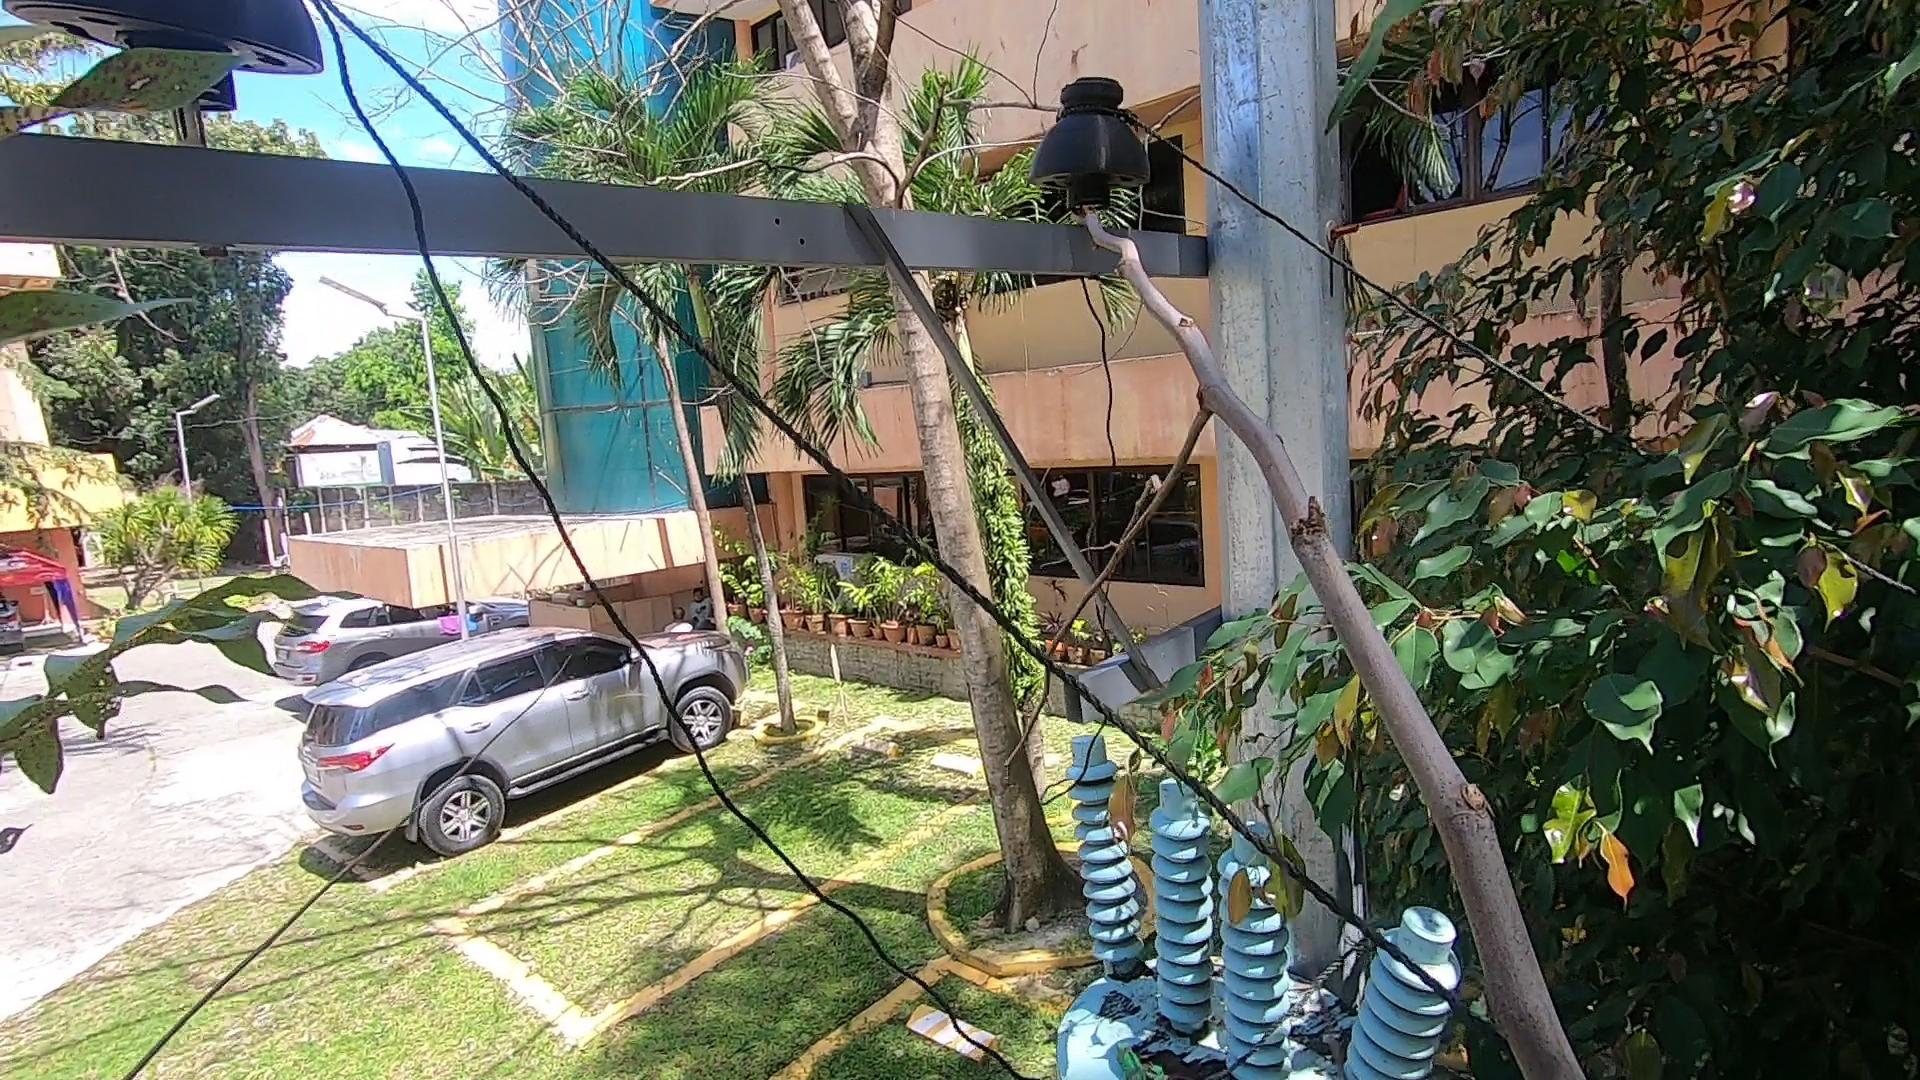branch with leaves: (1068, 601, 1378, 942)
leaf: (3, 45, 281, 167), (1133, 1040, 1237, 1080), (1294, 1013, 1358, 1076), (1112, 949, 1162, 990)
tree branch: (1044, 165, 1617, 1080)
